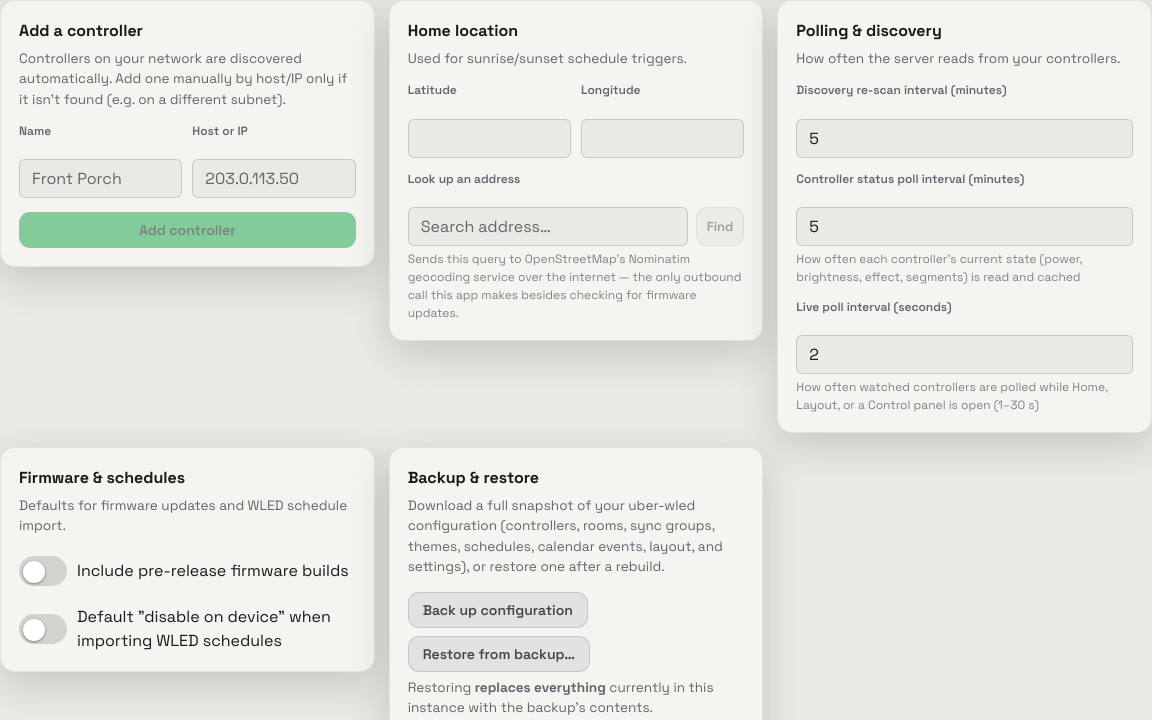
it: SettingsSection v2 › "Look up an address" (server-proxied Nominatim geocoding) › auto-applies the single match to the latitude/longitude fields
Type "1 Main St" into the field labelled "Look up an address" at (548, 226), box [408,207,688,246]
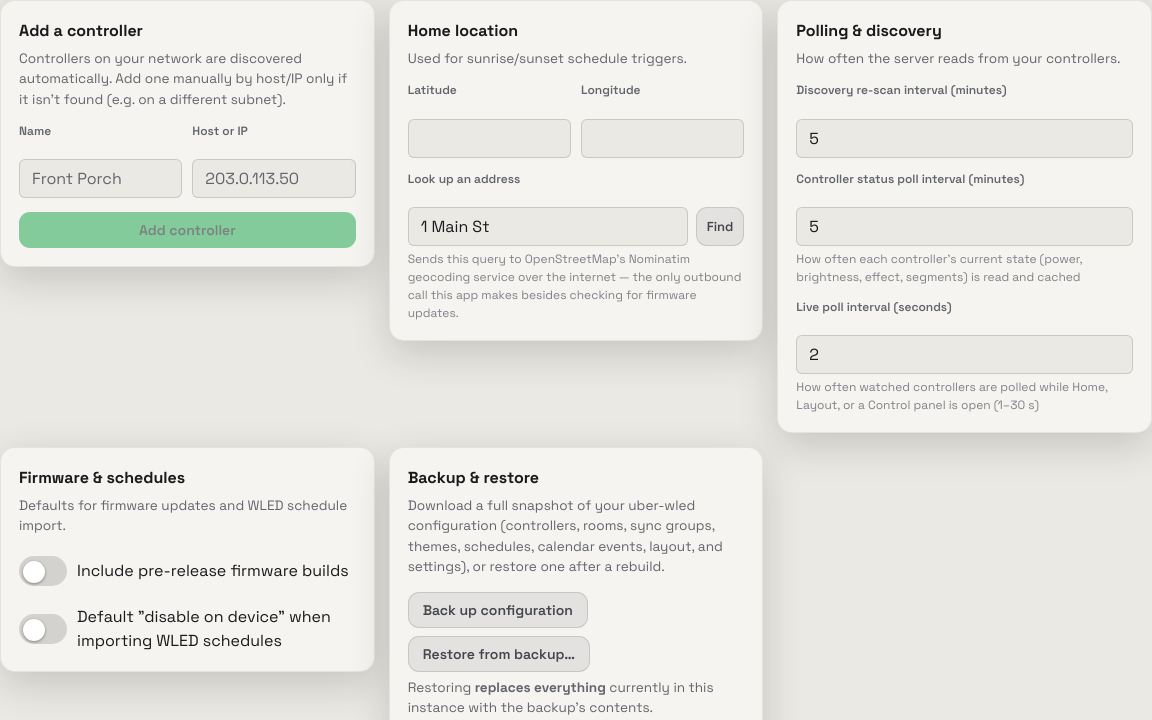
Click the button "Find" at (720, 226), box [696,207,744,246]
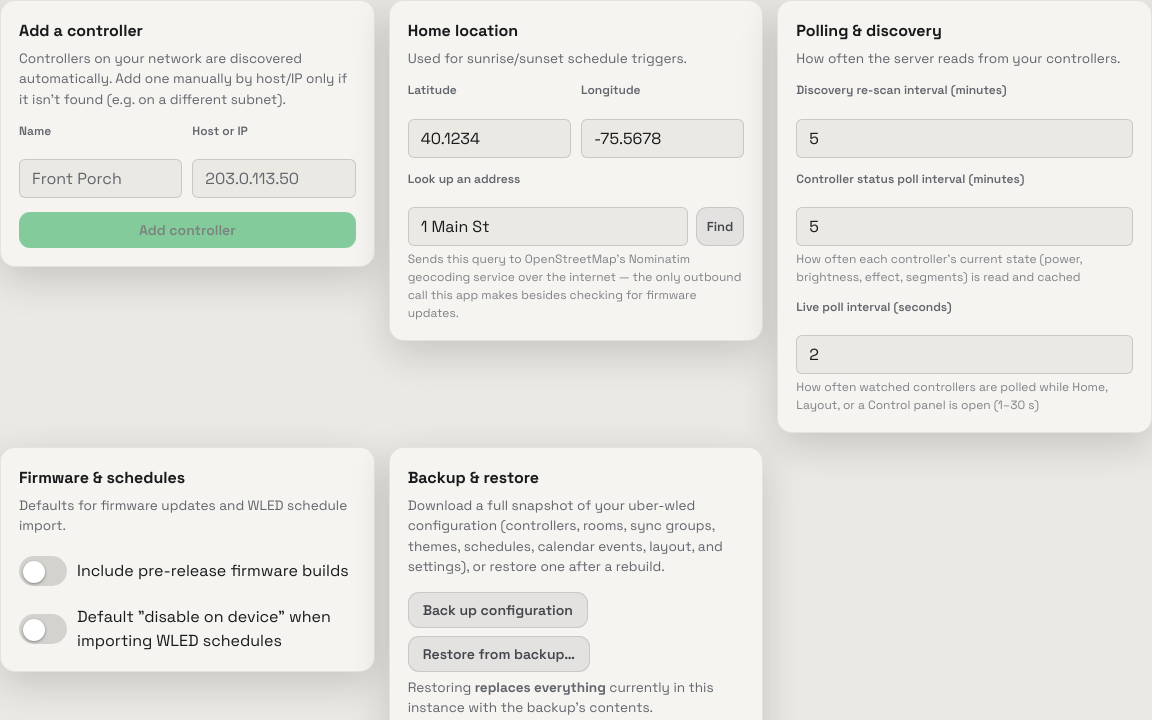
Expected: the number field labelled "Latitude" holds "40.1234", [408,119,571,158]
Expected: the number field labelled "Longitude" holds "-75.5678", [581,119,744,158]
